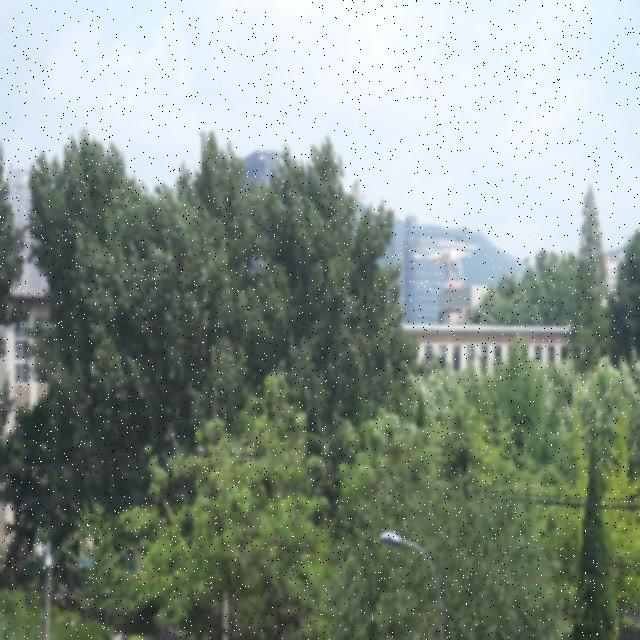UAV: (412, 241, 480, 284)
